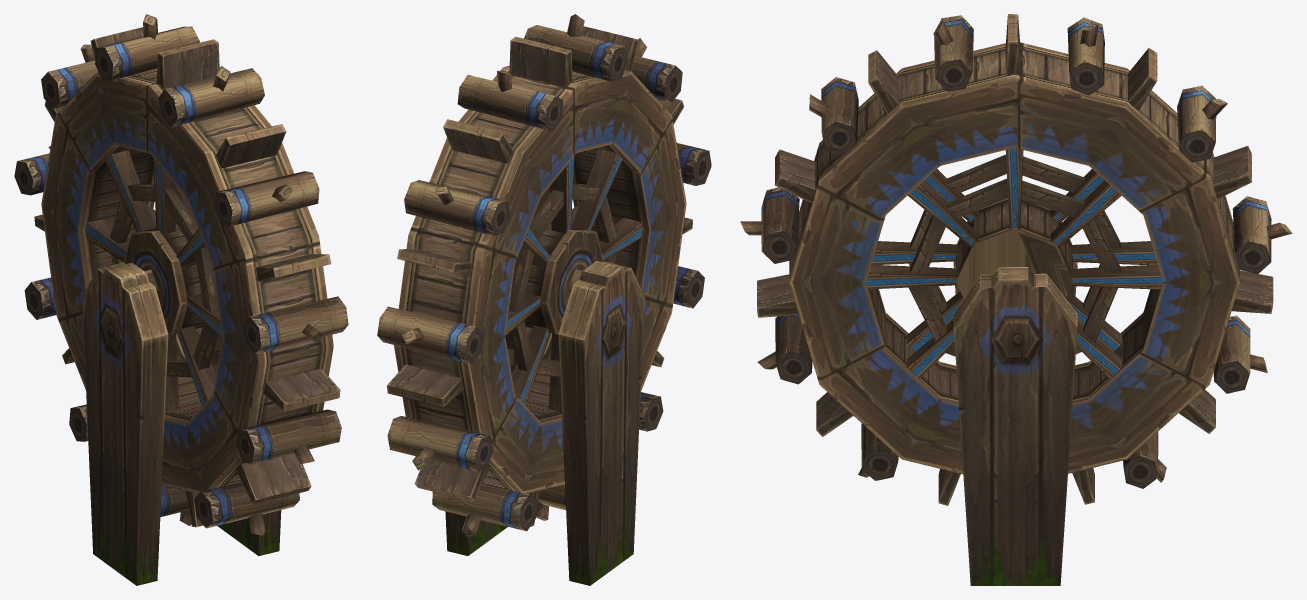
File: fb_xsc_jz_10_c.FBX
3 views of the same model, side by side, from view 1: azimuth 30°, elevation 25°; view 2: azimuth 150°, elevation 25°; view 3: azimuth 270°, elevation 25° (orthographic). The views are drawn at different scales.
Parts seen in each view (by area): view 1: fb_xsc_jz_10_k; view 2: fb_xsc_jz_10_k; view 3: fb_xsc_jz_10_k.
Boxes of the visible parts, bbox=[...] form: fb_xsc_jz_10_k: bbox=[14, 14, 348, 585]; fb_xsc_jz_10_k: bbox=[377, 14, 711, 585]; fb_xsc_jz_10_k: bbox=[740, 14, 1292, 585].
Size of the model in its own units: 457 by 1507 by 1426.
